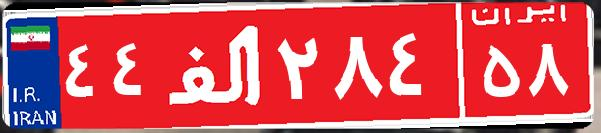2: (273, 28, 330, 110)
4: (385, 28, 445, 110), (57, 26, 110, 107), (110, 28, 158, 105)
5: (475, 38, 525, 113)
8: (330, 28, 385, 110), (525, 38, 570, 115)
الف: (158, 15, 273, 115)
